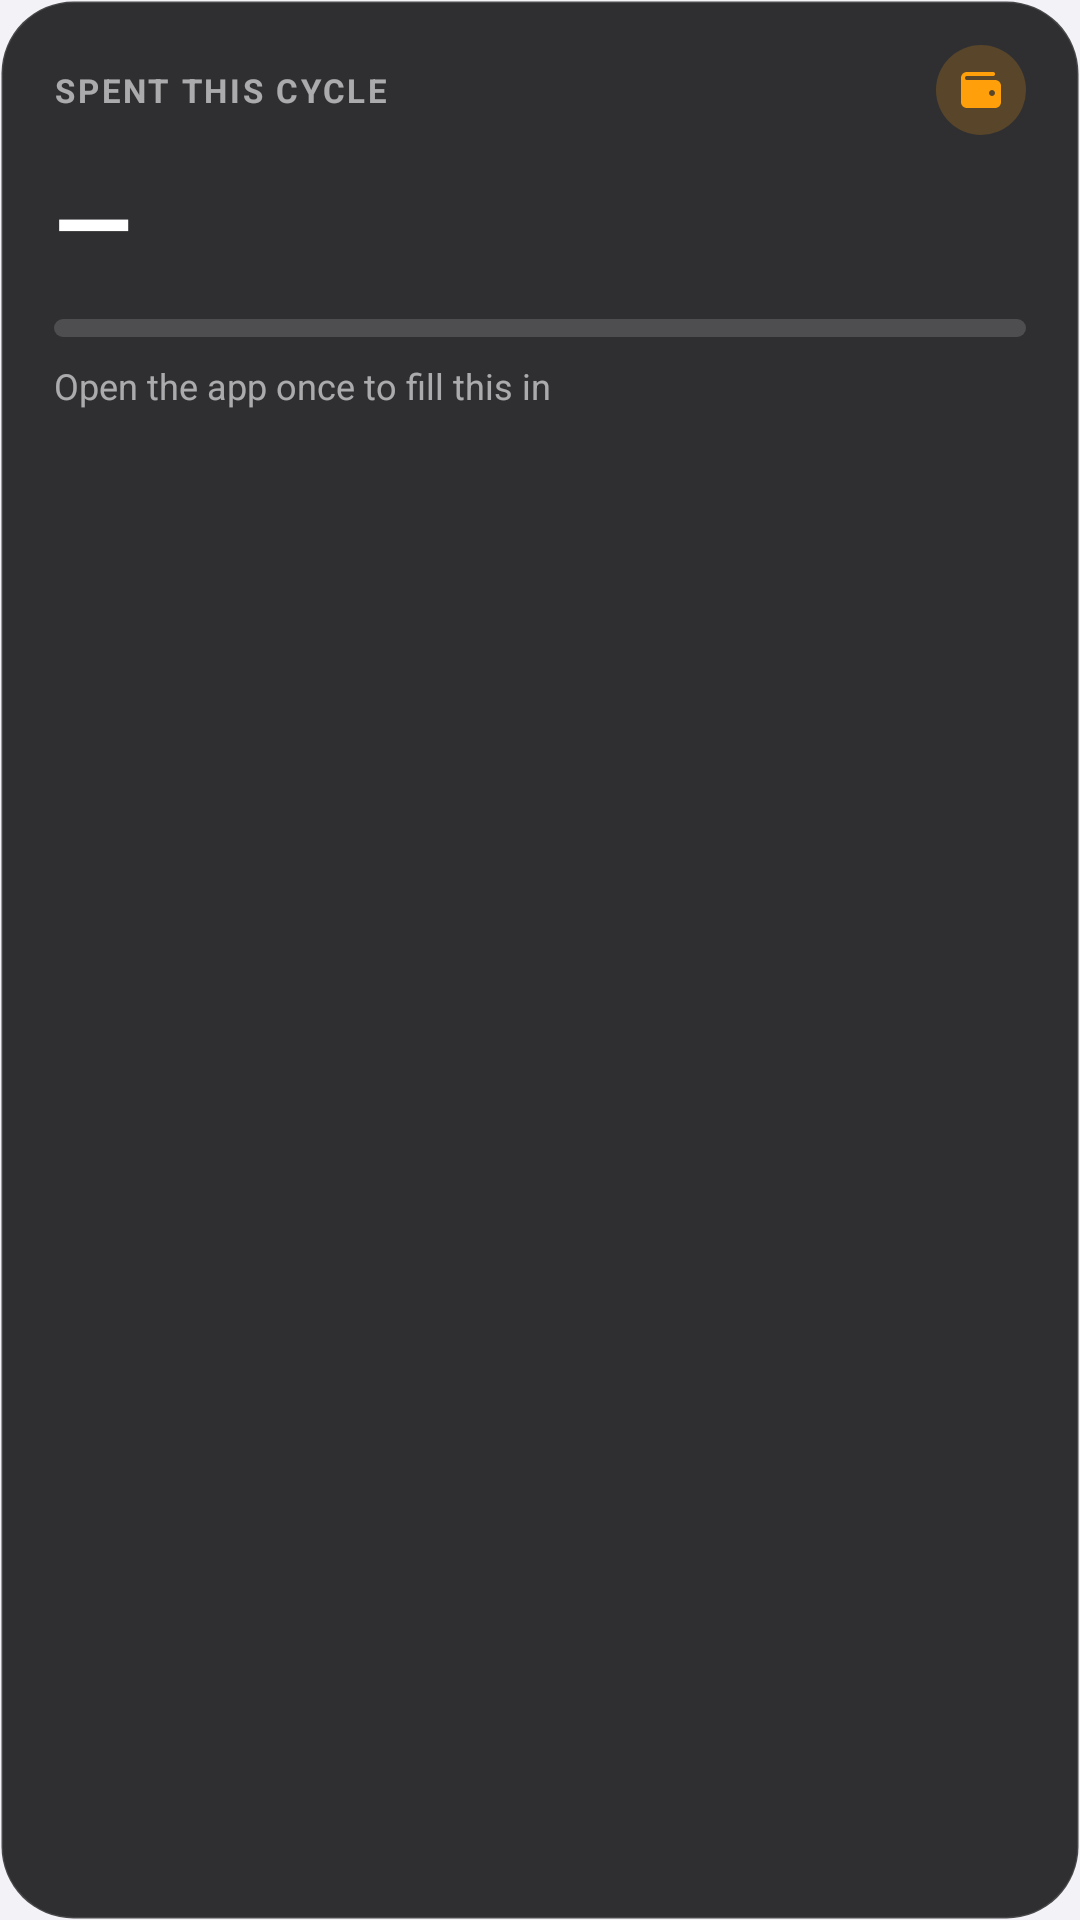

Screen size 1080w x 1920h. Icon name, then its box in pixels as (x1, y1, x2, y2):
wallet: (936, 45, 1026, 135)
